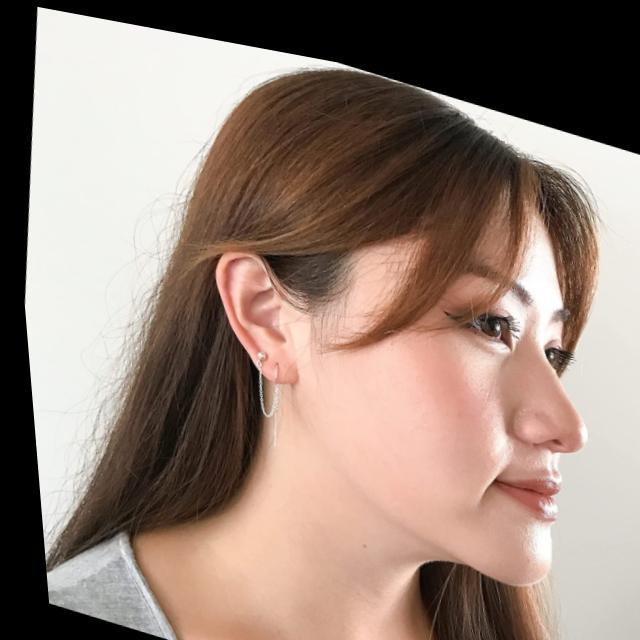Nonhelmet: (158, 63, 605, 599)
